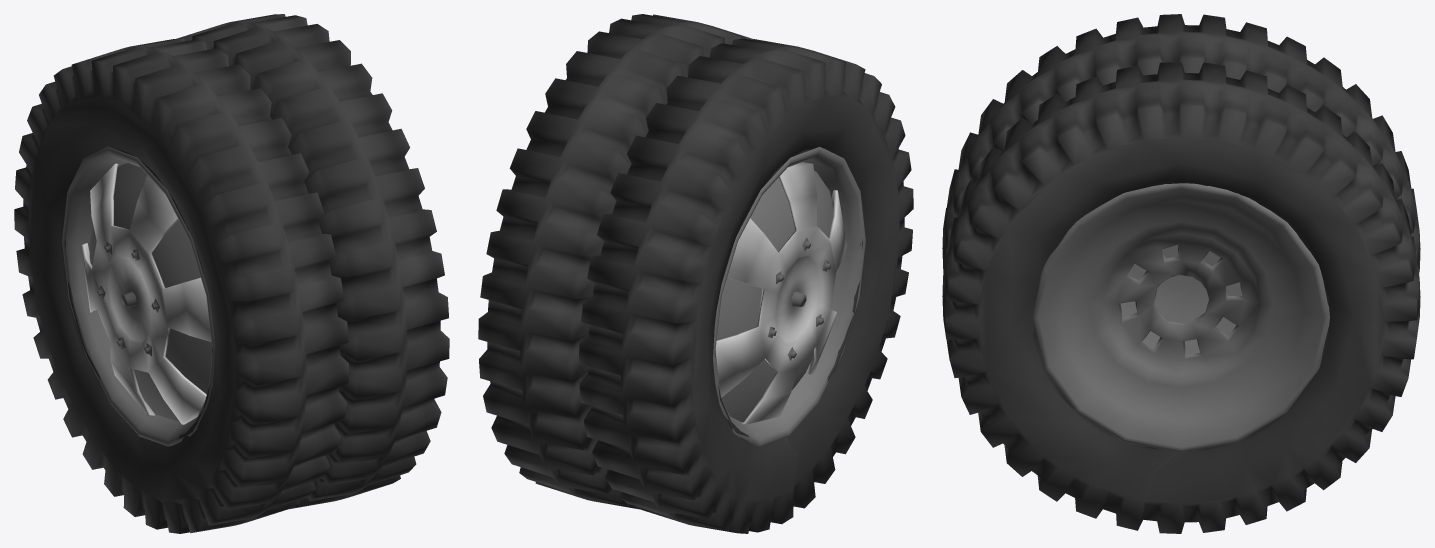
Rendered from OT_wheel_rear_d3.obj.
3 views of the same model, side by side, from view 1: azimuth 30°, elevation 25°; view 2: azimuth 150°, elevation 25°; view 3: azimuth 270°, elevation 25° (orthographic). The views are drawn at different scales.
Parts seen in each view (by area): view 1: OT_wheel_rear_OT_wheel_rear_DefaultMaterial; view 2: OT_wheel_rear_OT_wheel_rear_DefaultMaterial; view 3: OT_wheel_rear_OT_wheel_rear_DefaultMaterial.
Boxes of the visible parts, box(x1,y1,x2,y2) form: OT_wheel_rear_OT_wheel_rear_DefaultMaterial: box(14, 14, 449, 533); OT_wheel_rear_OT_wheel_rear_DefaultMaterial: box(478, 14, 913, 533); OT_wheel_rear_OT_wheel_rear_DefaultMaterial: box(942, 14, 1420, 533).
Size of the model in its own units: 0.4832 by 0.9902 by 0.9903.
Materials: 1 (1 with a texture image).
